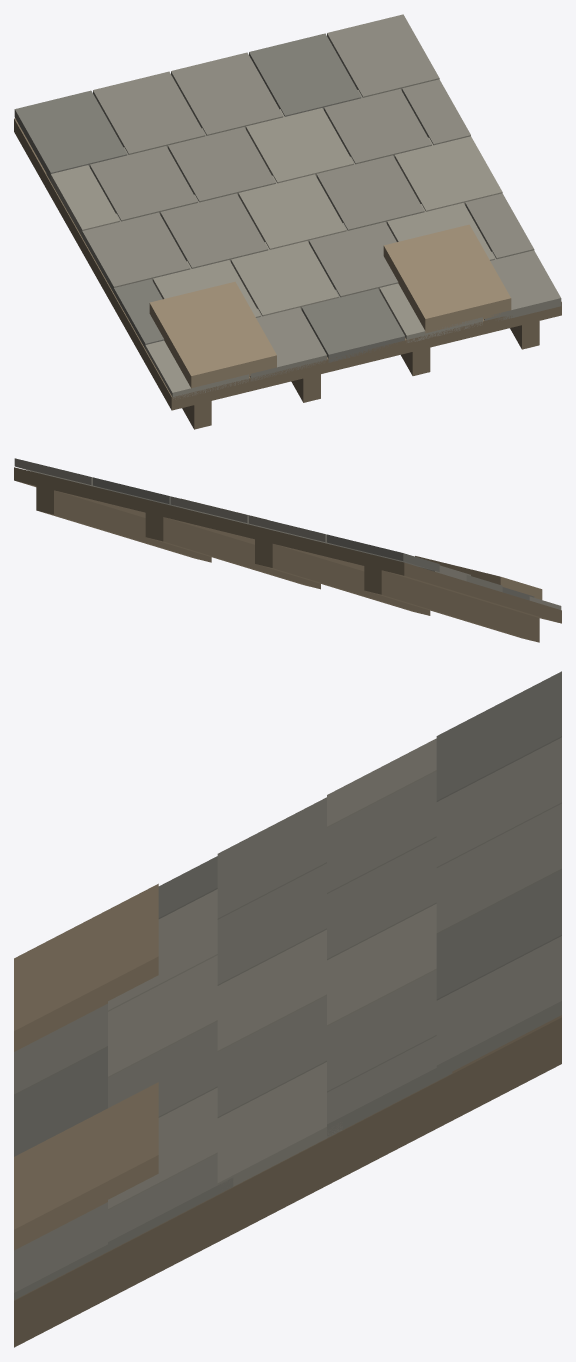
The model's file is env_roof_shingle_timber_patch_c_v04_eave_repairs.glb.
The picture shows the model from 3 angles, top to bottom: view 1: azimuth 30°, elevation 25°; view 2: azimuth 150°, elevation 25°; view 3: azimuth 270°, elevation 25°; orthographic projection. The views are drawn at different scales.
Parts seen in each view (by area): view 1: material_4, material_5, material_6, material_3, material_2; view 2: material_2, material_4, material_6, material_3, material_5; view 3: material_4, material_5, material_3, material_2, material_6.
Boxes of the visible parts, x1,y1,x2,y2 form: material_4: [78, 14, 561, 381]; material_5: [46, 108, 502, 399]; material_6: [14, 33, 404, 362]; material_3: [149, 224, 511, 388]; material_2: [14, 118, 561, 429]; material_2: [14, 467, 561, 642]; material_4: [14, 458, 502, 592]; material_6: [93, 477, 534, 600]; material_3: [181, 498, 542, 599]; material_5: [421, 565, 561, 609]; material_4: [14, 737, 561, 1300]; material_5: [108, 738, 436, 1210]; material_3: [14, 883, 158, 1250]; material_2: [14, 1015, 561, 1347]; material_6: [14, 671, 561, 1156].
Bounding box in the file's own units: 2 × 1.03 × 1.4.
